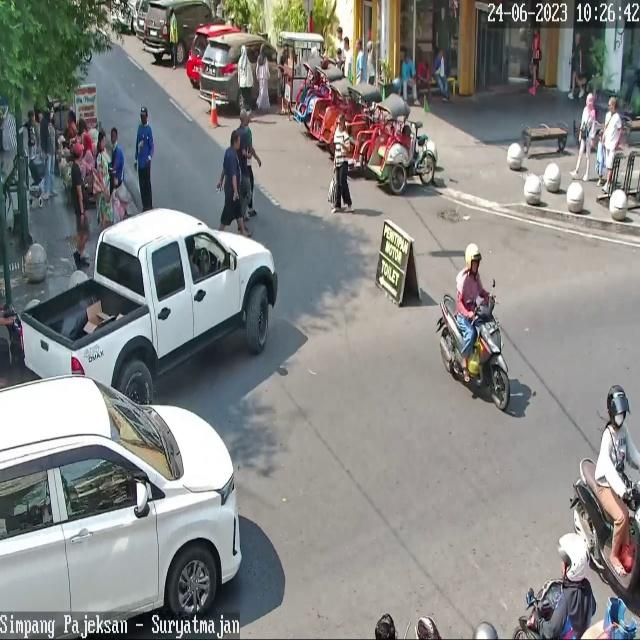bus: (571, 458, 640, 598), (438, 292, 511, 412), (512, 579, 564, 640), (0, 302, 22, 384)
motorcycle: (0, 375, 240, 640), (20, 208, 279, 406), (200, 34, 281, 112), (144, 0, 227, 63), (186, 24, 242, 82)
